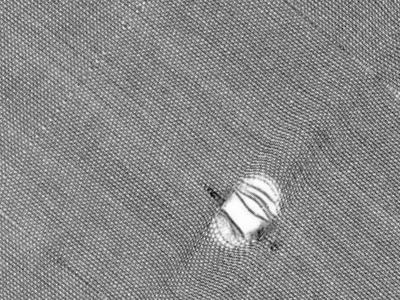hole: (201, 167, 284, 253)
